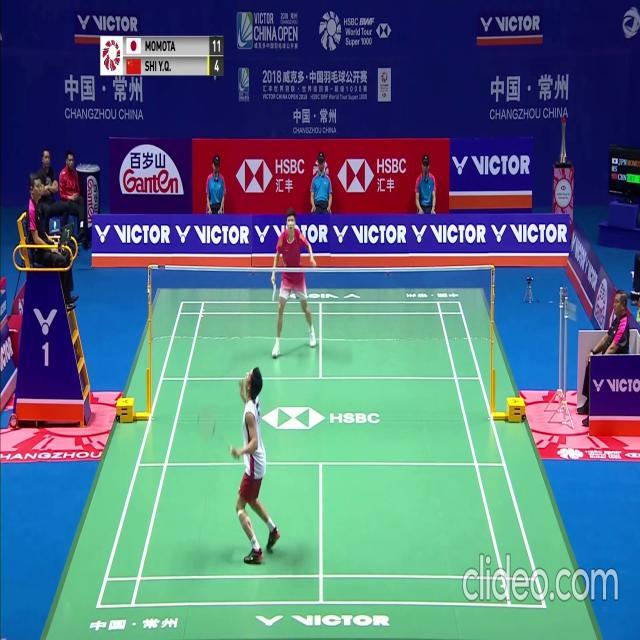Shuttlecock: (213, 73, 217, 80)
